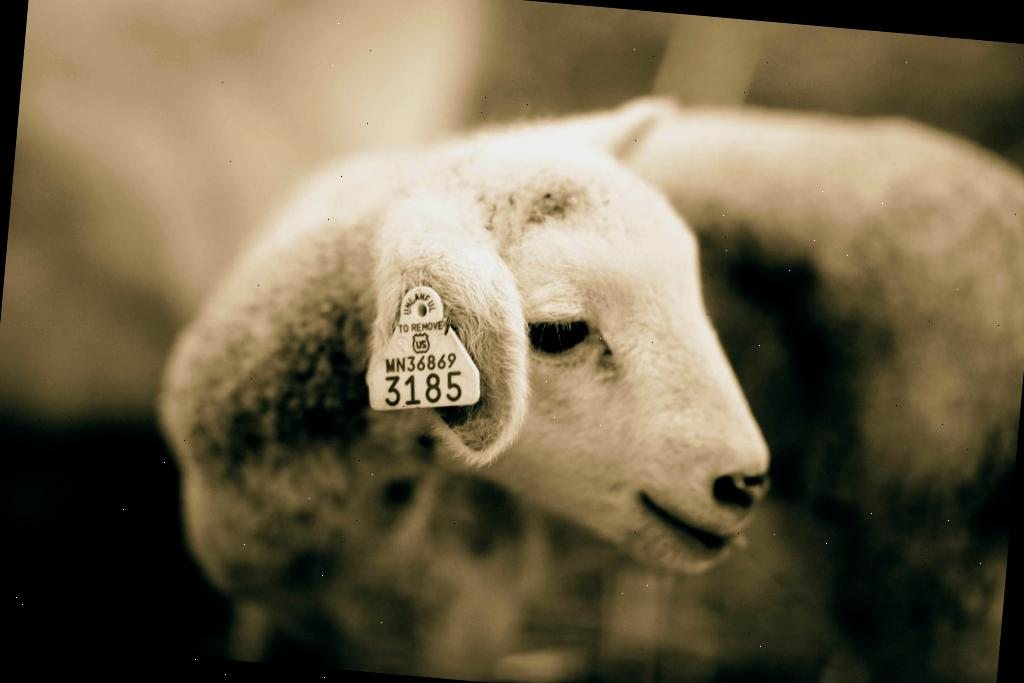Sheep: (136, 50, 1024, 683)
